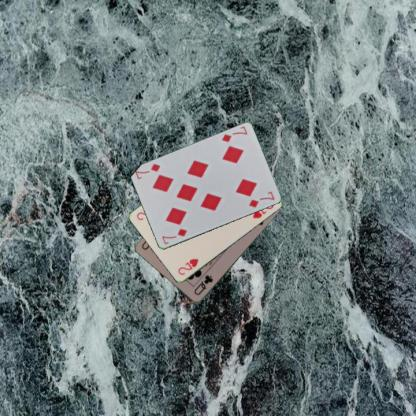2h: (175, 256, 199, 277)
7d: (159, 226, 188, 245), (219, 125, 248, 144)
Qc: (192, 273, 214, 296)
